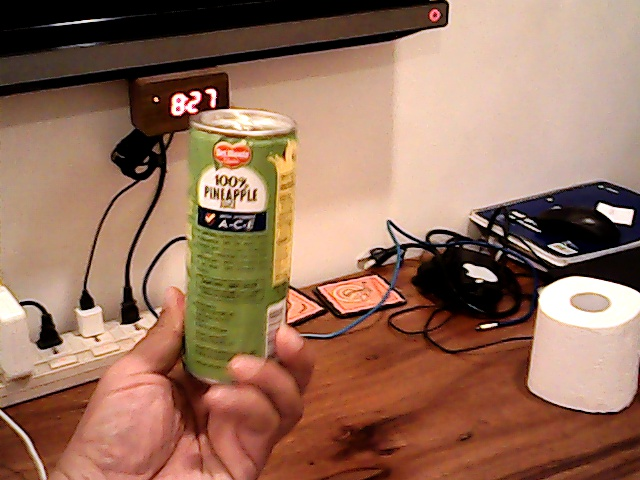Pine Juice: (171, 99, 307, 387)
